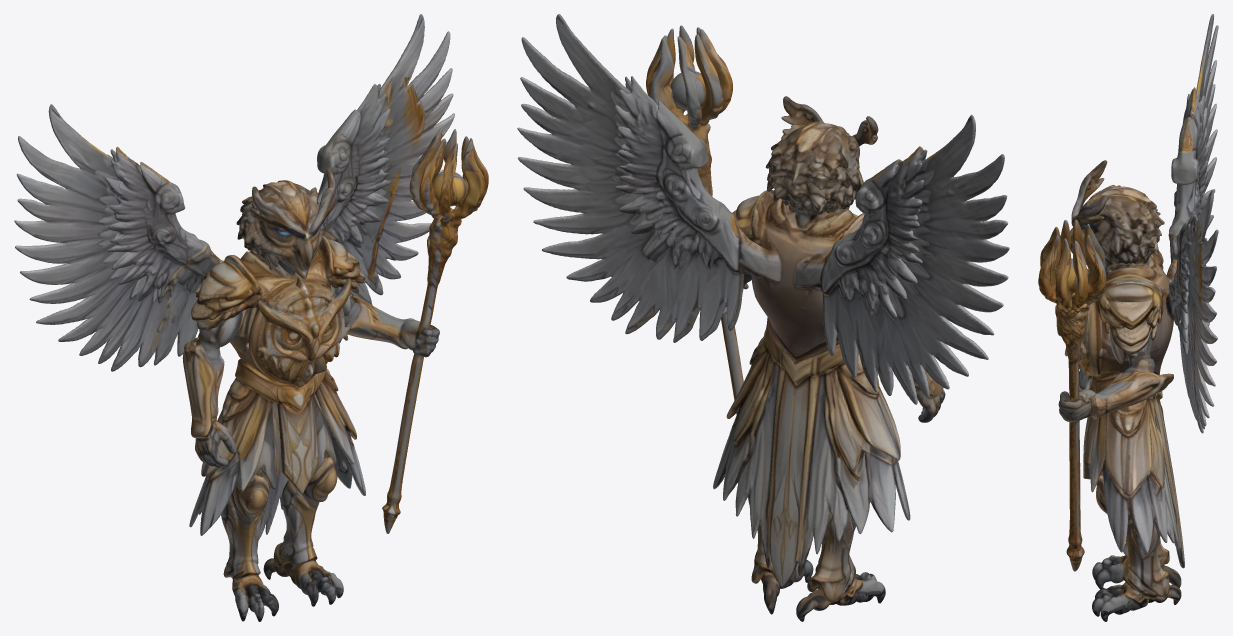
Rendered from orion.glb.
3 views of the same model, side by side, from view 1: azimuth 30°, elevation 25°; view 2: azimuth 150°, elevation 25°; view 3: azimuth 270°, elevation 25° (orthographic). The views are drawn at different scales.
Parts seen in each view (by area): view 1: tripo_node_dc6a2215-08be-4b36-a2b9-228a7e0402a1; view 2: tripo_node_dc6a2215-08be-4b36-a2b9-228a7e0402a1; view 3: tripo_node_dc6a2215-08be-4b36-a2b9-228a7e0402a1.
Boxes of the visible parts, x1=… form: tripo_node_dc6a2215-08be-4b36-a2b9-228a7e0402a1: x1=14, y1=14, x2=488, y2=621; tripo_node_dc6a2215-08be-4b36-a2b9-228a7e0402a1: x1=517, y1=14, x2=1009, y2=621; tripo_node_dc6a2215-08be-4b36-a2b9-228a7e0402a1: x1=1038, y1=14, x2=1218, y2=621.
Bounding box in the file's own units: 0.9016 × 1 × 0.3283.
Materials: 1 (1 with a texture image).
